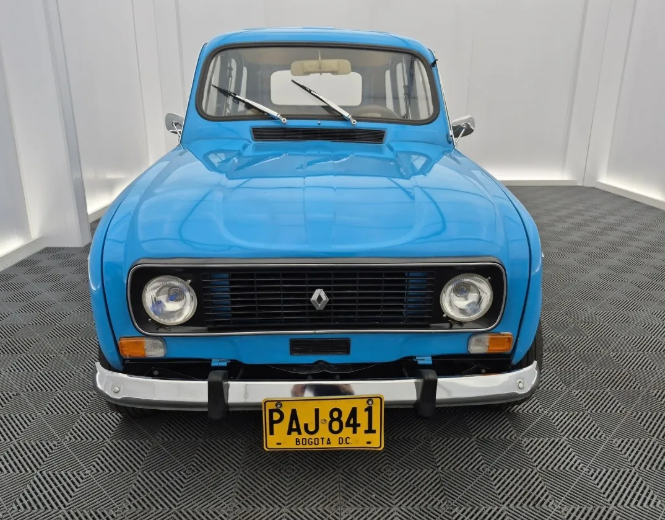placa: (261, 397, 385, 450)
